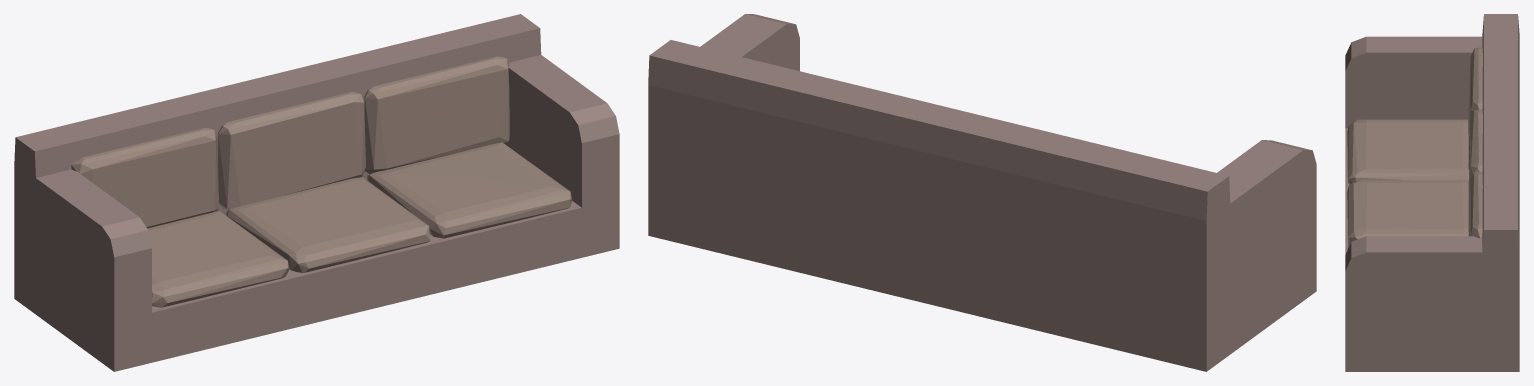
Rendered from CanapeCoussins.fbx.
3 views of the same model, side by side, from view 1: azimuth 30°, elevation 25°; view 2: azimuth 150°, elevation 25°; view 3: azimuth 270°, elevation 25° (orthographic). The views are drawn at different scales.
Visible parts, largest first — view 1: Cube.025; view 2: Cube.025; view 3: Cube.025.
Boxes of the visible parts, x1,y1,x2,y2 form: Cube.025: [14, 14, 619, 371]; Cube.025: [648, 14, 1316, 371]; Cube.025: [1345, 14, 1519, 371].
Bounding box in the file's own units: 747 × 229 × 255.
